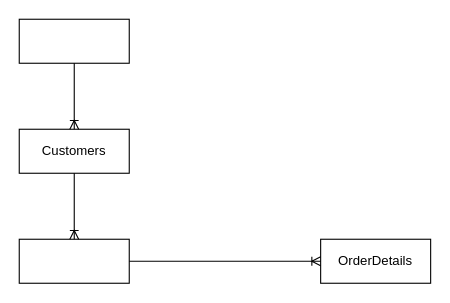
This 450x303 diagram has some shape labels left out. The shapes that lost their labels are listed below. From the top down, each one's centre as x and y in pixels, then its label:
At point 73,40: "Rep".
At point 73,260: "Orders".
